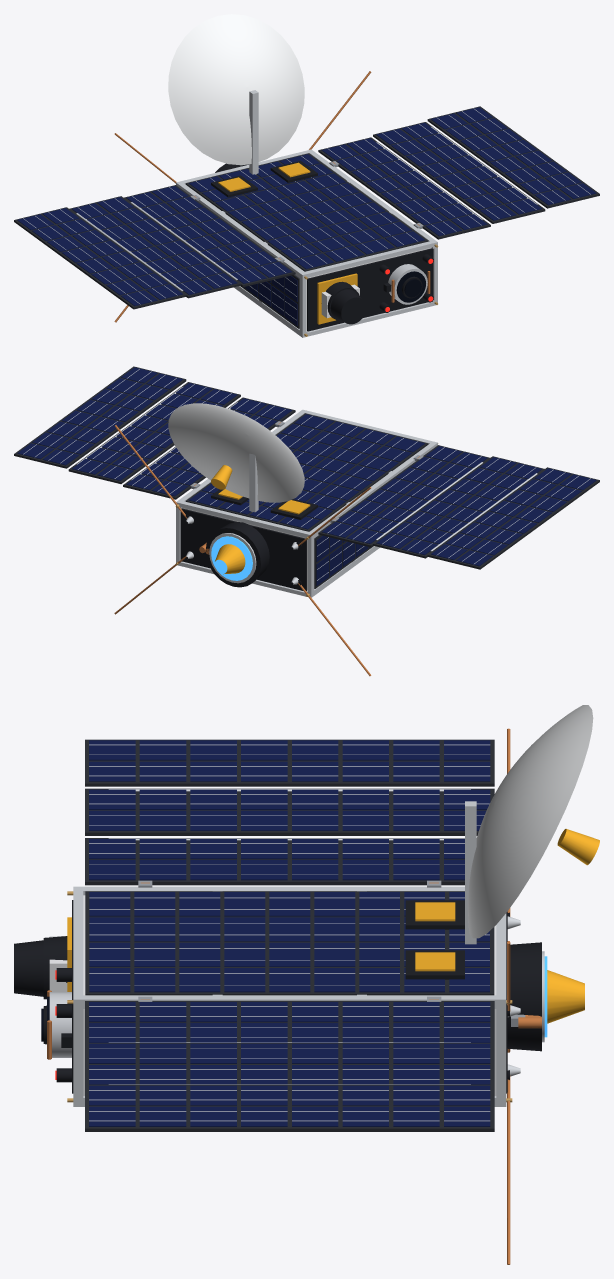
Rendered from cubesat-6u.glb.
3 renders of one model, top to bottom at view 1: azimuth 30°, elevation 25°; view 2: azimuth 150°, elevation 25°; view 3: azimuth 270°, elevation 25°, orthographic. The views are drawn at different scales.
Parts seen in each view (by area): view 1: dish, body-top-cells, wing-right-panel-3-cells, wing-left-panel-3-cells, wing-right-panel-2-cells, wing-right-panel-1-cells, wing-left-panel-2-cells, wing-left-panel-1-cells, deck-front, body-top-substrate, ring (×3), wing-left-panel-3-substrate (+21 smaller); view 2: body-top-cells, dish, wing-left-panel-3-cells, wing-right-panel-3-cells, wing-left-panel-2-cells, wing-left-panel-1-cells, wing-right-panel-2-cells, deck-back, wing-right-panel-1-cells, body-top-substrate, ring (×3), wing-left-panel-3-substrate (+20 smaller); view 3: body-top-cells, wing-left-panel-3-cells, wing-right-panel-3-cells, wing-right-panel-1-cells, wing-right-panel-2-cells, wing-left-panel-2-cells, wing-left-panel-1-cells, dish, body-top-substrate, wing-left-panel-3-substrate, wing-right-panel-3-substrate, wing-left-panel-1-substrate (+24 smaller).
Part boxes in pixels (<box>): dish: <box>168,14,304,165</box>; body-top-cells: <box>189,154,424,269</box>; wing-right-panel-3-cells: <box>431,107,596,205</box>; wing-left-panel-3-cells: <box>17,208,182,306</box>; wing-right-panel-2-cells: <box>376,122,541,220</box>; wing-right-panel-1-cells: <box>321,138,487,236</box>; wing-left-panel-2-cells: <box>72,197,237,294</box>; wing-left-panel-1-cells: <box>126,186,291,283</box>; deck-front: <box>307,248,433,331</box>; body-top-substrate: <box>185,153,428,271</box>; ring (×3): <box>176,150,437,337</box>; wing-left-panel-3-substrate: <box>14,207,186,309</box>; body-top-cells: <box>189,414,424,529</box>; dish: <box>168,403,304,502</box>; wing-left-panel-3-cells: <box>431,468,596,566</box>; wing-right-panel-3-cells: <box>17,367,182,465</box>; wing-left-panel-2-cells: <box>376,457,541,555</box>; wing-left-panel-1-cells: <box>322,446,487,543</box>; wing-right-panel-2-cells: <box>72,383,237,480</box>; deck-back: <box>180,508,306,590</box>; wing-right-panel-1-cells: <box>126,398,292,496</box>; body-top-substrate: <box>185,413,428,531</box>; ring (×3): <box>176,410,437,596</box>; wing-left-panel-3-substrate: <box>427,467,599,569</box>; body-top-cells: <box>89,892,489,992</box>; wing-left-panel-3-cells: <box>89,740,490,781</box>; wing-right-panel-3-cells: <box>89,1085,490,1126</box>; wing-right-panel-1-cells: <box>89,1002,490,1042</box>; wing-right-panel-2-cells: <box>89,1043,490,1084</box>; wing-left-panel-2-cells: <box>89,789,490,830</box>; wing-left-panel-1-cells: <box>89,839,464,880</box>; dish: <box>468,705,593,938</box>; body-top-substrate: <box>85,891,494,995</box>; wing-left-panel-3-substrate: <box>85,739,494,786</box>; wing-right-panel-3-substrate: <box>85,1084,494,1131</box>; wing-left-panel-1-substrate: <box>85,838,464,885</box>.
Bounding box in the file's own units: 0.778 × 0.4108 × 0.4951.
